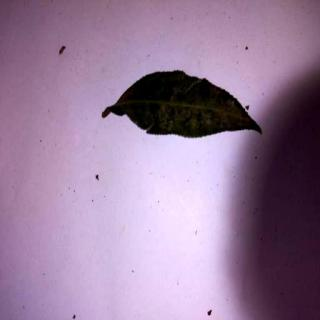Anthracnose: (105, 70, 266, 142)
